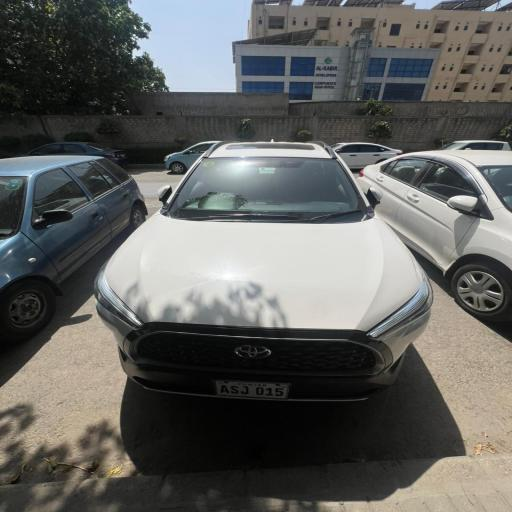bnu_sticker: (202, 160, 218, 168)
number_plate: (212, 380, 288, 400)
